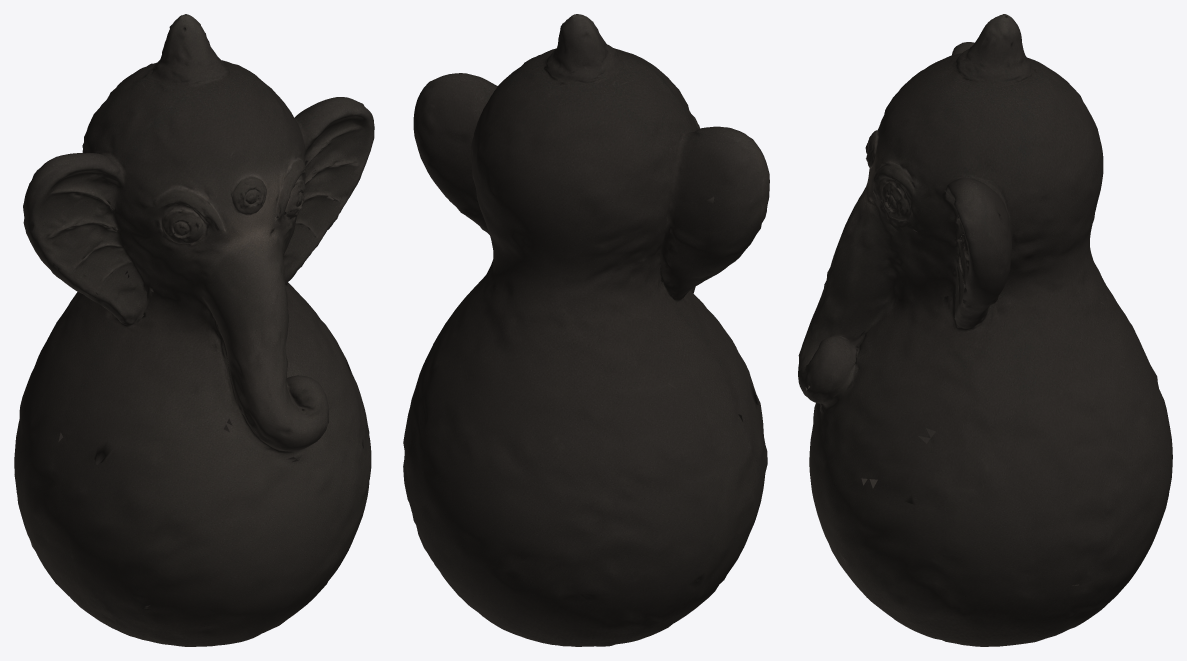
The model's file is black-ganesha-statue.glb.
3 renders of one model, left to right at view 1: azimuth 30°, elevation 25°; view 2: azimuth 150°, elevation 25°; view 3: azimuth 270°, elevation 25°, orthographic.
Visible parts, largest first — view 1: black-ganesha-statue; view 2: black-ganesha-statue; view 3: black-ganesha-statue.
Part boxes in pixels (x1,y1,x2,y2): black-ganesha-statue: (14, 14, 374, 646); black-ganesha-statue: (403, 14, 769, 646); black-ganesha-statue: (798, 14, 1172, 646).
Size of the model in its own units: 0.2307 by 0.38 by 0.2149.
1 material, 1 textured.
